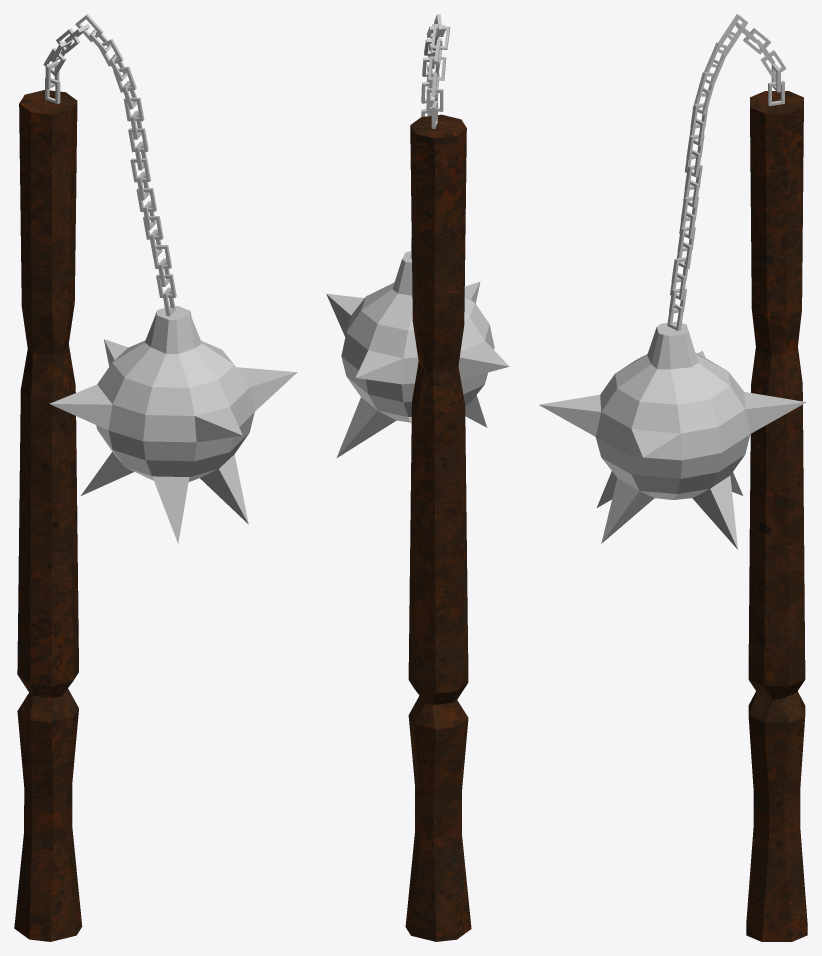
The model's file is maca.fbx.
3 views of the same model, side by side, from view 1: azimuth 30°, elevation 25°; view 2: azimuth 150°, elevation 25°; view 3: azimuth 270°, elevation 25° (orthographic). The views are drawn at different scales.
Visible parts, largest first — view 1: Cube, Cube.014, Cube.001; view 2: Cube, Cube.014, Cube.001; view 3: Cube, Cube.014, Cube.001.
Boxes of the visible parts, <box> form: Cube: <box>14,90,82,941</box>; Cube.014: <box>49,306,297,543</box>; Cube.001: <box>43,14,176,316</box>; Cube: <box>405,114,471,941</box>; Cube.014: <box>326,251,509,457</box>; Cube.001: <box>410,14,450,259</box>; Cube: <box>746,91,807,941</box>; Cube.014: <box>539,321,806,549</box>; Cube.001: <box>667,14,786,330</box>.
Size of the model in its own units: 1083 by 4363 by 1152.
